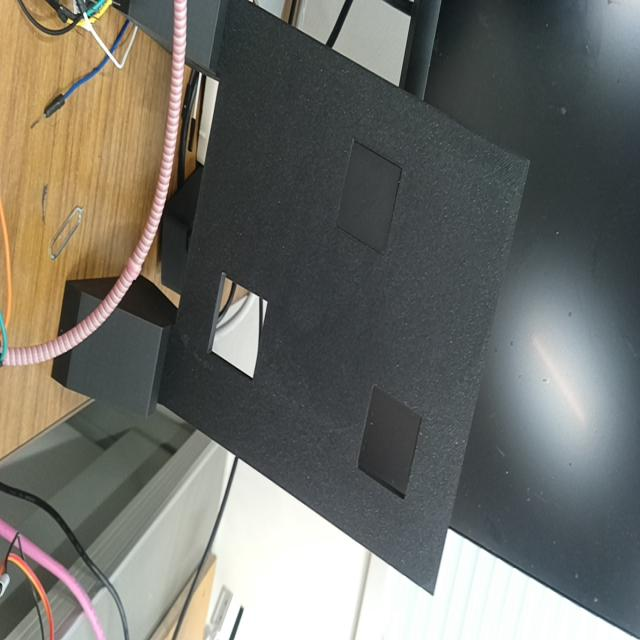Obstacle: (209, 270, 269, 379)
Wall: (160, 0, 528, 593)
